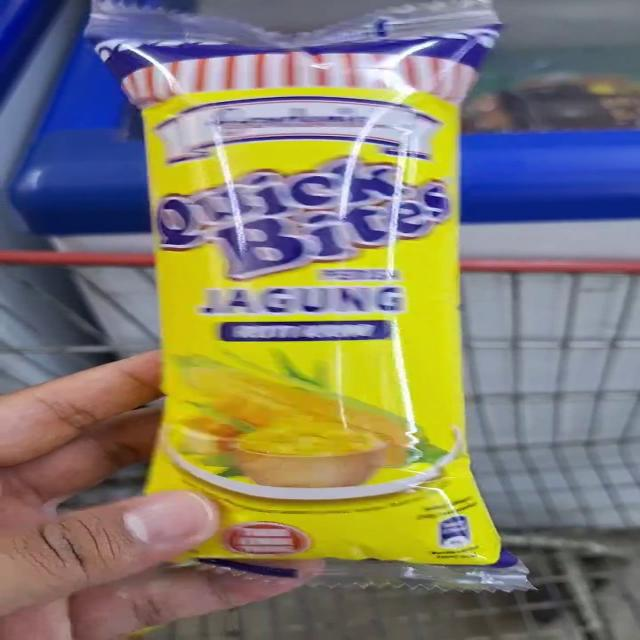Roti: (81, 21, 563, 606)
